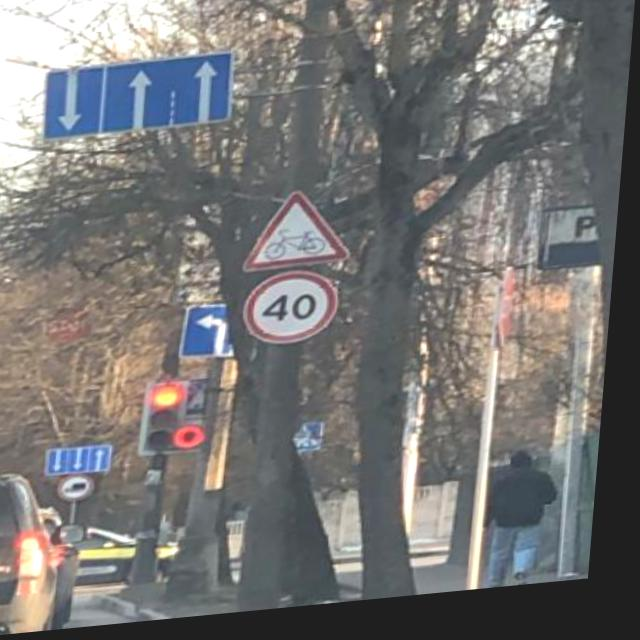limit40: (246, 266, 349, 362)
